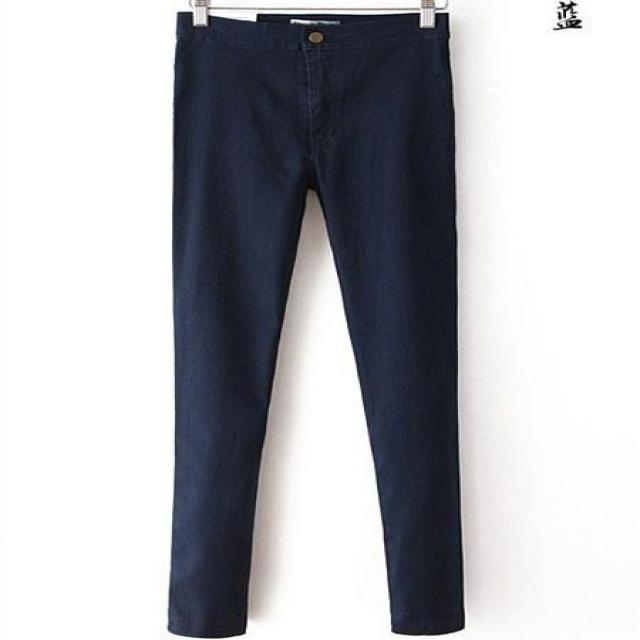trousers: (168, 14, 469, 635)
